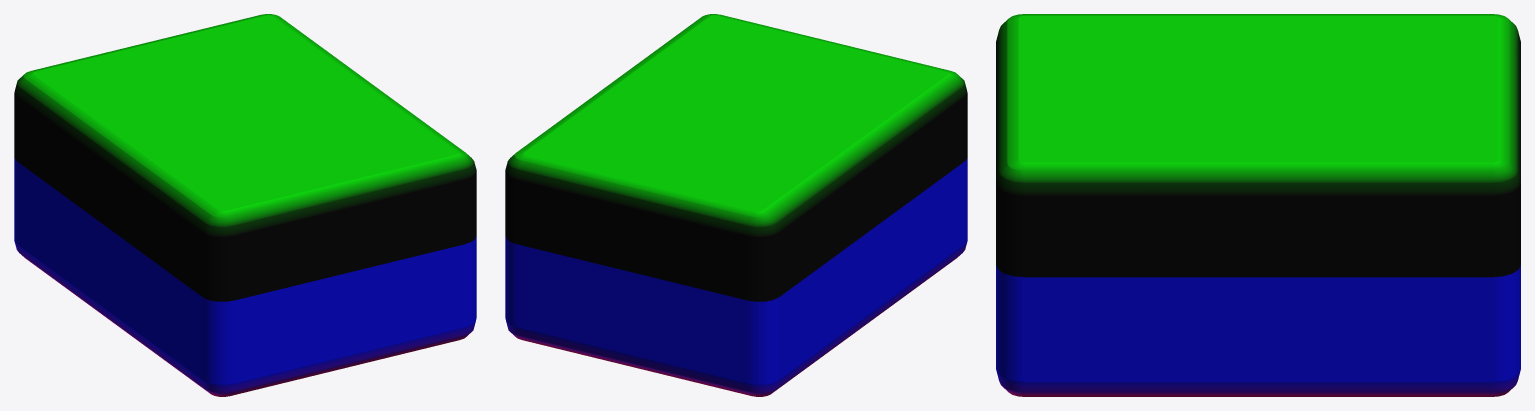
The model's file is 3DCardNew2026.8.5.fbx.
3 renders of one model, left to right at view 1: azimuth 30°, elevation 25°; view 2: azimuth 150°, elevation 25°; view 3: azimuth 270°, elevation 25°, orthographic. The views are drawn at different scales.
Visible parts, largest first — view 1: Cube; view 2: Cube; view 3: Cube.
Boxes of the visible parts, x1,y1,x2,y2 form: Cube: [14, 14, 476, 396]; Cube: [505, 14, 967, 396]; Cube: [996, 14, 1520, 396].
Bounding box in the file's own units: 200 × 130 × 266.
